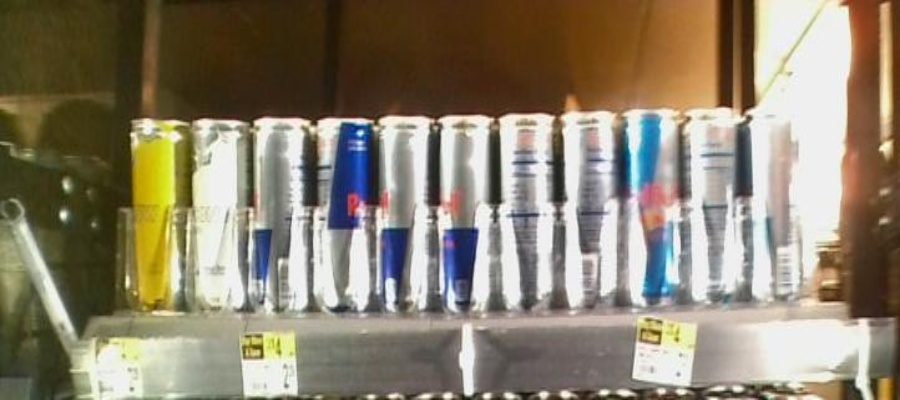bottle: (620, 88, 686, 312), (127, 111, 189, 325), (251, 106, 313, 316), (376, 102, 435, 314), (499, 108, 558, 319), (562, 106, 617, 325), (194, 99, 248, 319), (745, 102, 804, 303), (317, 111, 374, 316), (438, 108, 495, 305), (688, 102, 740, 314)
